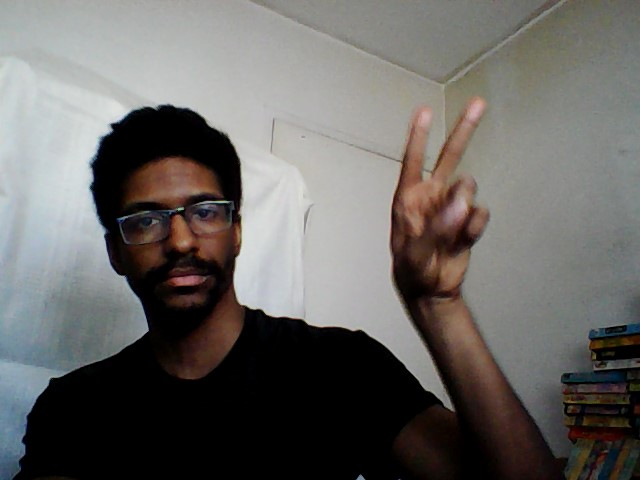v: (386, 93, 494, 319)
